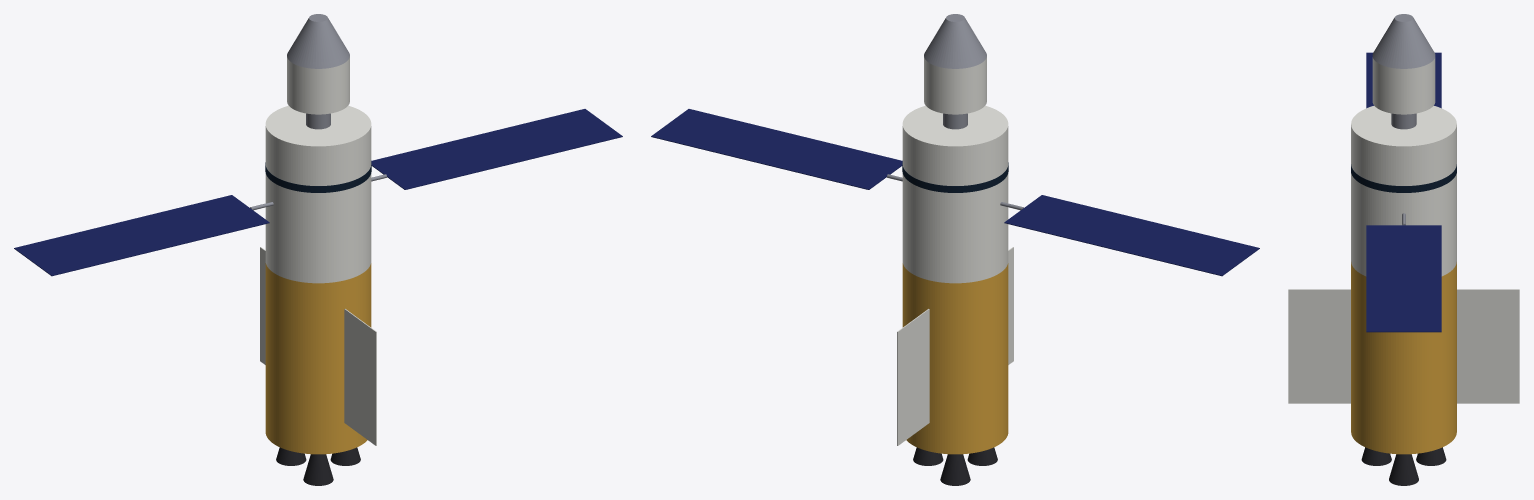
The model's file is nave_transito.obj.
The picture shows the model from 3 angles, left to right: view 1: azimuth 30°, elevation 25°; view 2: azimuth 150°, elevation 25°; view 3: azimuth 270°, elevation 25°; orthographic projection.
Parts seen in each view (by area): view 1: Casco_Habitat, Etapa_Propulsion, Panel_Ala_Izquierda, Panel_Ala_Derecha, Radiador_2, Modulo_Servicio, Capsula_Tripulacion, Ventanas, Tobera_3, Radiador_1; view 2: Casco_Habitat, Etapa_Propulsion, Panel_Ala_Izquierda, Panel_Ala_Derecha, Radiador_1, Modulo_Servicio, Capsula_Tripulacion, Ventanas, Tobera_2, Radiador_2; view 3: Etapa_Propulsion, Casco_Habitat, Panel_Ala_Derecha, Radiador_1, Radiador_2, Modulo_Servicio, Capsula_Tripulacion, Ventanas, Panel_Ala_Izquierda, Tobera_1, Tobera_2, Tobera_3 (+1 smaller).
Part boxes in pixels (x1=…): Casco_Habitat: x1=265, y1=105, x2=371, y2=283; Etapa_Propulsion: x1=265, y1=263, x2=371, y2=454; Panel_Ala_Izquierda: x1=14, y1=195, x2=269, y2=276; Panel_Ala_Derecha: x1=371, y1=109, x2=622, y2=189; Radiador_2: x1=344, y1=309, x2=376, y2=445; Modulo_Servicio: x1=287, y1=57, x2=349, y2=114; Capsula_Tripulacion: x1=287, y1=14, x2=349, y2=68; Ventanas: x1=265, y1=162, x2=371, y2=192; Tobera_3: x1=303, y1=454, x2=333, y2=485; Radiador_1: x1=260, y1=247, x2=265, y2=364; Casco_Habitat: x1=902, y1=105, x2=1008, y2=283; Etapa_Propulsion: x1=902, y1=263, x2=1008, y2=454; Panel_Ala_Izquierda: x1=1004, y1=195, x2=1259, y2=276; Panel_Ala_Derecha: x1=651, y1=109, x2=902, y2=189; Radiador_1: x1=897, y1=309, x2=929, y2=445; Modulo_Servicio: x1=924, y1=57, x2=986, y2=114; Capsula_Tripulacion: x1=924, y1=14, x2=986, y2=68; Ventanas: x1=902, y1=162, x2=1008, y2=192; Tobera_2: x1=940, y1=454, x2=970, y2=485; Radiador_2: x1=1008, y1=247, x2=1013, y2=364; Etapa_Propulsion: x1=1351, y1=262, x2=1456, y2=454; Casco_Habitat: x1=1351, y1=106, x2=1456, y2=276; Panel_Ala_Derecha: x1=1366, y1=225, x2=1441, y2=332; Radiador_1: x1=1457, y1=289, x2=1519, y2=403; Radiador_2: x1=1288, y1=289, x2=1350, y2=403; Modulo_Servicio: x1=1372, y1=57, x2=1435, y2=114; Capsula_Tripulacion: x1=1372, y1=14, x2=1435, y2=68; Ventanas: x1=1351, y1=164, x2=1456, y2=192; Panel_Ala_Izquierda: x1=1366, y1=52, x2=1441, y2=108; Tobera_1: x1=1389, y1=454, x2=1418, y2=485; Tobera_2: x1=1416, y1=447, x2=1446, y2=465; Tobera_3: x1=1361, y1=447, x2=1391, y2=465.
Size of the model in its own units: 52.4 by 39.3 by 18.4.
